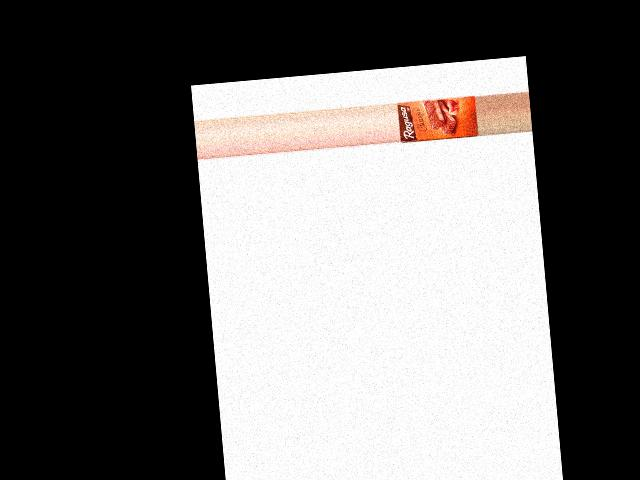chocolate: (397, 91, 479, 145)
